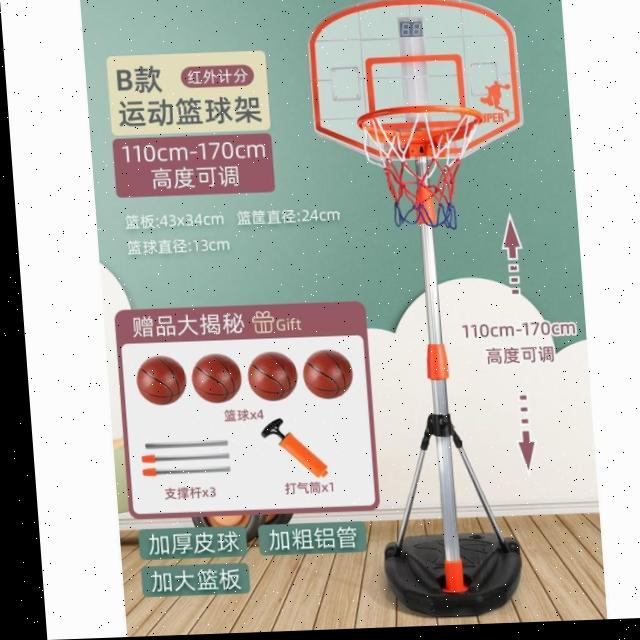basketball: (245, 349, 300, 403), (300, 348, 356, 401), (134, 354, 187, 407), (190, 353, 242, 403)
hoop: (356, 104, 489, 231)
